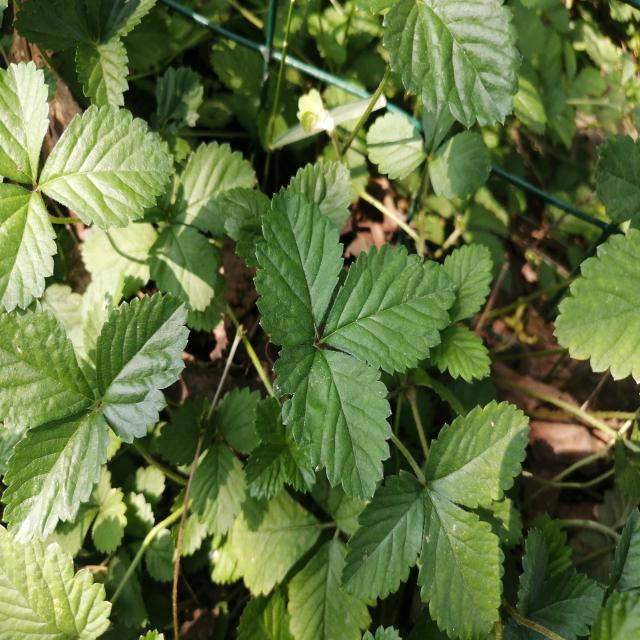Mock_strawberry: (251, 173, 455, 491)
